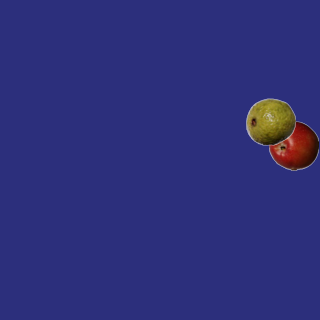Apple Braeburn: (268, 120, 318, 170)
Guava: (245, 96, 295, 146)
